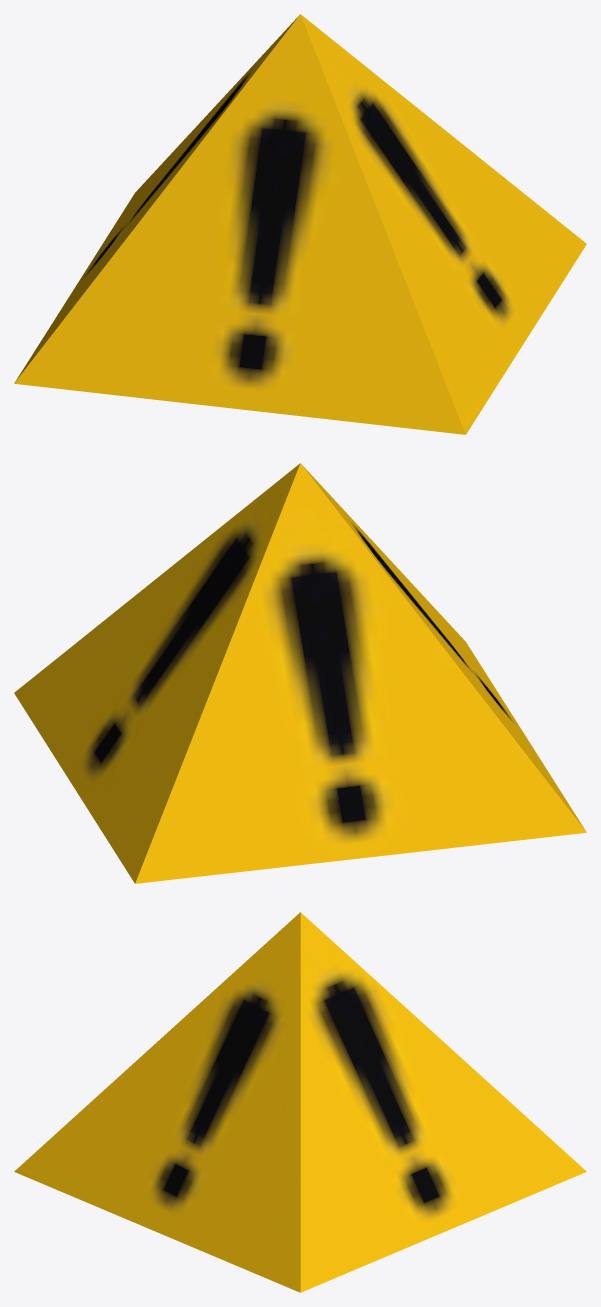
The model's file is triangle.fbx.
3 views of the same model, one above another, from view 1: azimuth 30°, elevation 25°; view 2: azimuth 150°, elevation 25°; view 3: azimuth 270°, elevation 25° (orthographic). The views are drawn at different scales.
Visible parts, largest first — view 1: Cone; view 2: Cone; view 3: Cone.
Part boxes in pixels (x1,y1,x2,y2): Cone: [14, 14, 586, 434]; Cone: [14, 463, 586, 883]; Cone: [14, 912, 586, 1292].
Size of the model in its own units: 200 by 100 by 200.
Materials: 1 (1 with a texture image).
